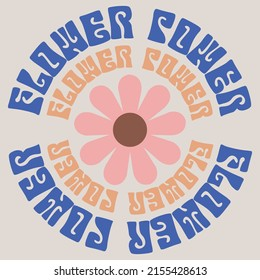flower: (72, 74, 186, 187)
